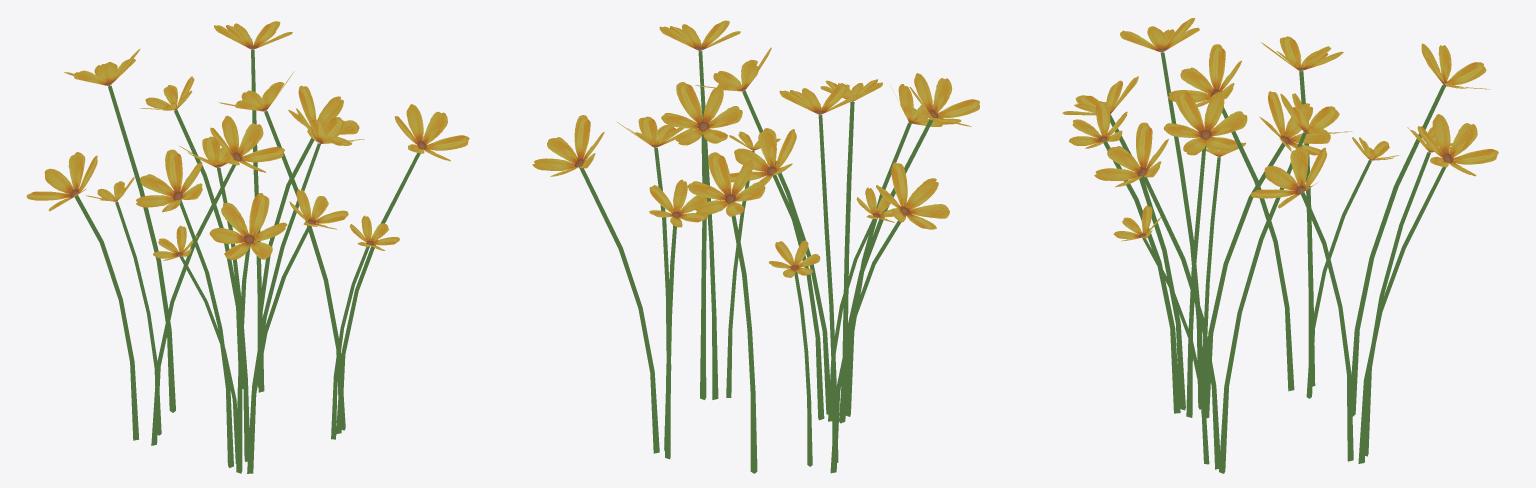
Rendered from MEADOW_SM_Flower_04_03.gltf.
The picture shows the model from 3 angles, left to right: view 1: azimuth 30°, elevation 25°; view 2: azimuth 150°, elevation 25°; view 3: azimuth 270°, elevation 25°; orthographic projection. The views are drawn at different scales.
Visible parts, largest first — view 1: SM_Flower_04_03_LOD0; view 2: SM_Flower_04_03_LOD0; view 3: SM_Flower_04_03_LOD0.
Boxes of the visible parts, <box> form: SM_Flower_04_03_LOD0: <box>26,21,469,473</box>; SM_Flower_04_03_LOD0: <box>532,20,979,473</box>; SM_Flower_04_03_LOD0: <box>1062,18,1498,473</box>.
Size of the model in its own units: 0.7447 by 0.6475 by 0.7617.
1 material, 1 textured.
